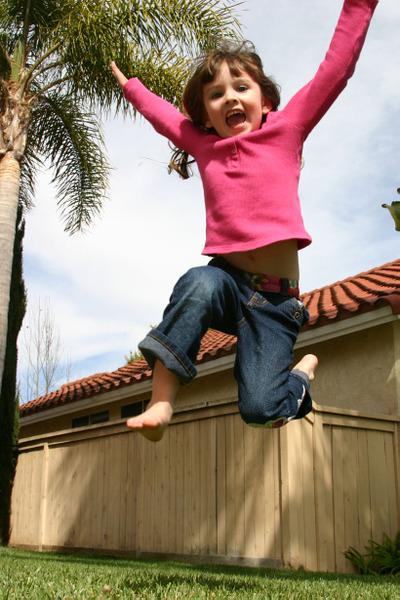person: (108, 1, 375, 440)
